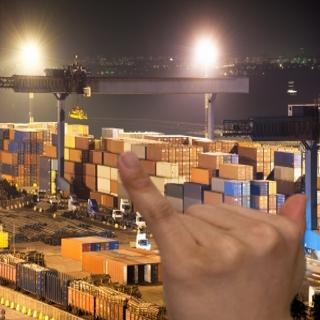HAVE: (112, 141, 320, 320)
